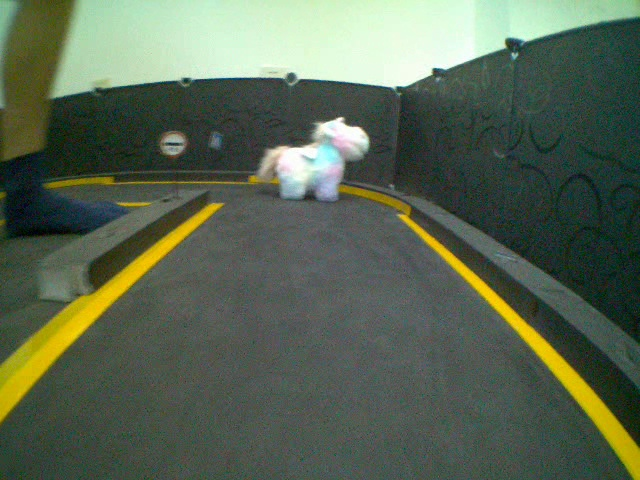unicorn: (260, 114, 370, 205)
